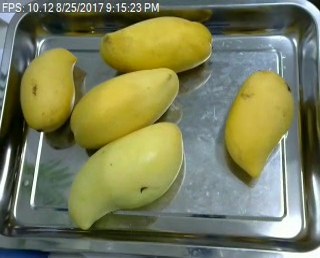Mango: (62, 122, 184, 229), (64, 66, 180, 150), (220, 72, 297, 176), (97, 17, 217, 77), (17, 45, 83, 133)
